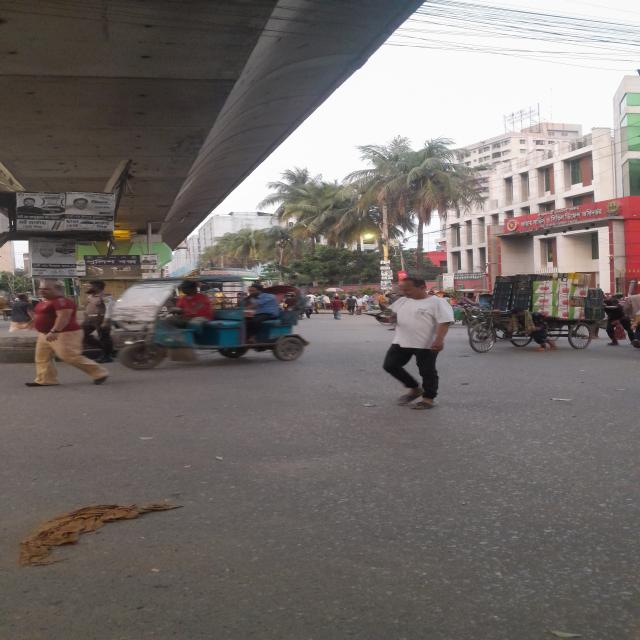person: (379, 278, 454, 410), (26, 280, 109, 388), (82, 281, 115, 364)
